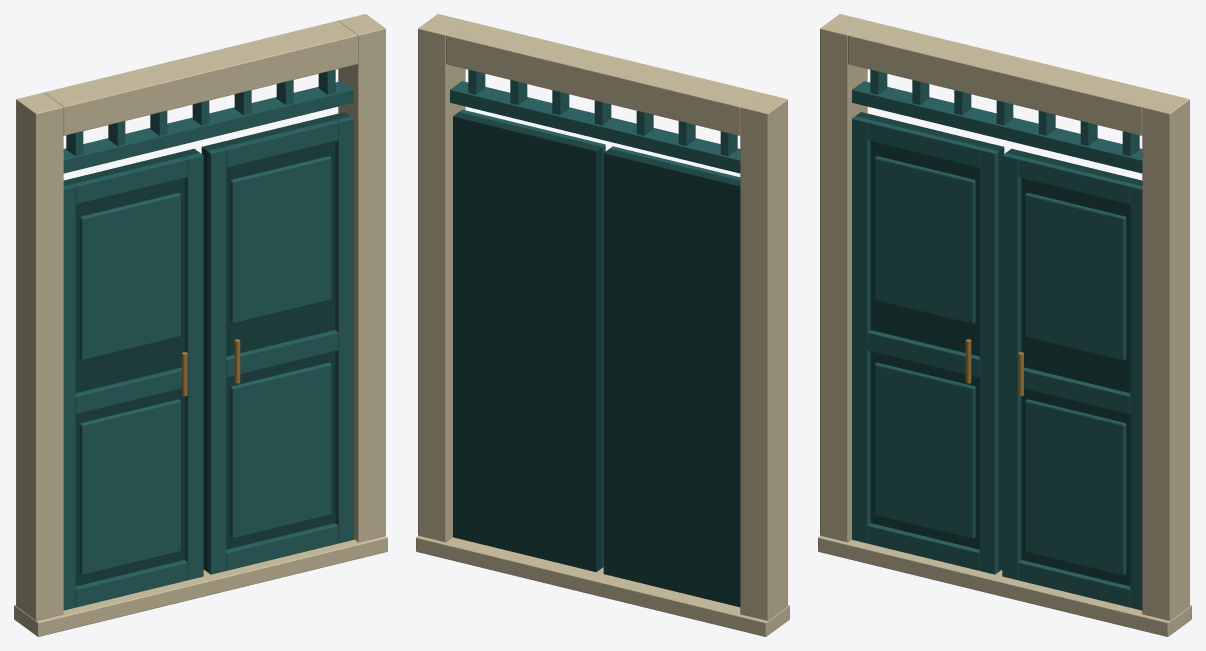
3 renders of one model, left to right at view 1: azimuth 30°, elevation 25°; view 2: azimuth 150°, elevation 25°; view 3: azimuth 330°, elevation 25°, orthographic.
Visible parts, largest first — view 1: DOOR_Jamb, DOOR_Jamb.001, Right_RaisedPanel, Left_RaisedPanel, Right_RaisedPanel.001, Left_RaisedPanel.001, DOOR_Header, Right_Core, Left_Core, Right_Stile.001, Left_Stile.001, Right_Stile (+9 smaller); view 2: Right_Core, Left_Core, DOOR_Jamb, DOOR_Jamb.001, DOOR_Header, DOOR_Sill, TRANSOM_Rail, Right_Stile.001; view 3: DOOR_Jamb.001, DOOR_Jamb, Left_RaisedPanel, Right_RaisedPanel, Left_RaisedPanel.001, Right_RaisedPanel.001, DOOR_Header, Left_Core, Right_Core, Left_Stile.001, Right_Stile.001, Left_Stile (+9 smaller).
Boxes of the visible parts, x1,y1,x2,y2 form: DOOR_Jamb: (16, 92, 63, 620); DOOR_Jamb.001: (338, 14, 385, 542); Right_RaisedPanel: (230, 362, 331, 538); Left_RaisedPanel: (79, 399, 180, 575); Right_RaisedPanel.001: (230, 156, 331, 323); Left_RaisedPanel.001: (79, 193, 180, 360); DOOR_Header: (44, 21, 357, 135); Right_Core: (201, 112, 350, 571); Left_Core: (63, 148, 199, 586); Right_Stile.001: (207, 147, 226, 574); Left_Stile.001: (184, 153, 203, 579); Right_Stile: (335, 116, 353, 543); Right_Core: (453, 112, 602, 572); Left_Core: (603, 148, 740, 607); DOOR_Jamb: (740, 92, 787, 620); DOOR_Jamb.001: (418, 14, 465, 542); DOOR_Header: (446, 21, 759, 135); DOOR_Sill: (416, 535, 789, 636); TRANSOM_Rail: (450, 81, 740, 173); Right_Stile.001: (587, 140, 605, 567); DOOR_Jamb.001: (1142, 92, 1189, 620); DOOR_Jamb: (820, 14, 867, 542); Left_RaisedPanel: (874, 362, 975, 538); Right_RaisedPanel: (1025, 399, 1126, 575); Left_RaisedPanel.001: (874, 156, 975, 323); Right_RaisedPanel.001: (1025, 193, 1126, 360); DOOR_Header: (848, 21, 1161, 135); Left_Core: (855, 112, 1004, 571); Right_Core: (1006, 148, 1142, 586); Left_Stile.001: (979, 147, 998, 574); Right_Stile.001: (1002, 153, 1021, 579); Left_Stile: (852, 116, 870, 543).
Bounding box in the file's own units: 2 × 2.85 × 0.24.
